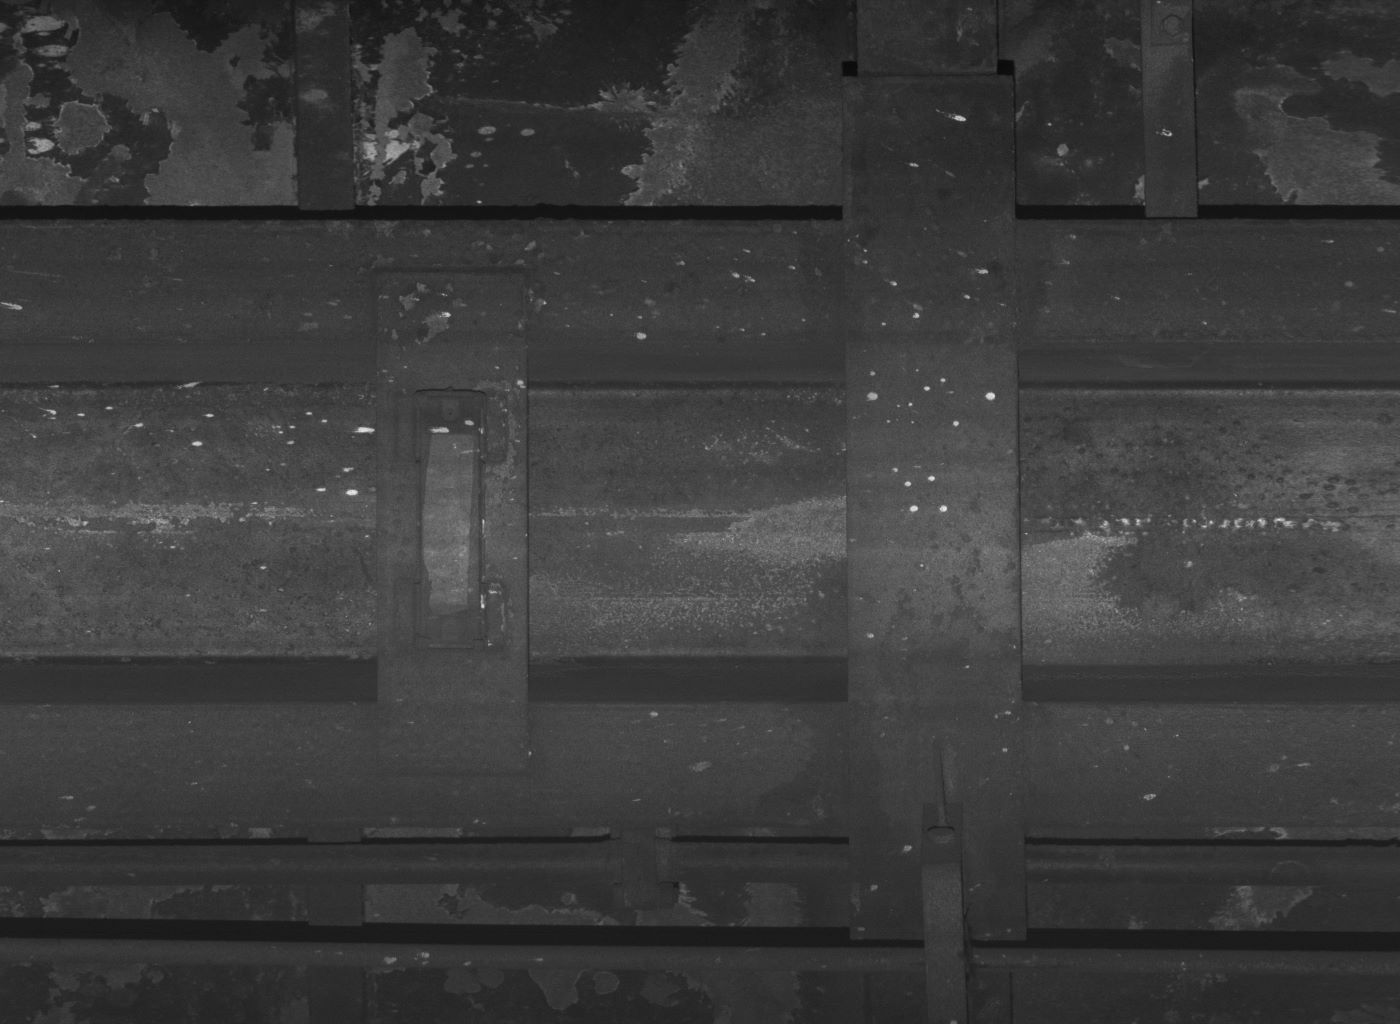normal: (921, 803, 973, 1023)
